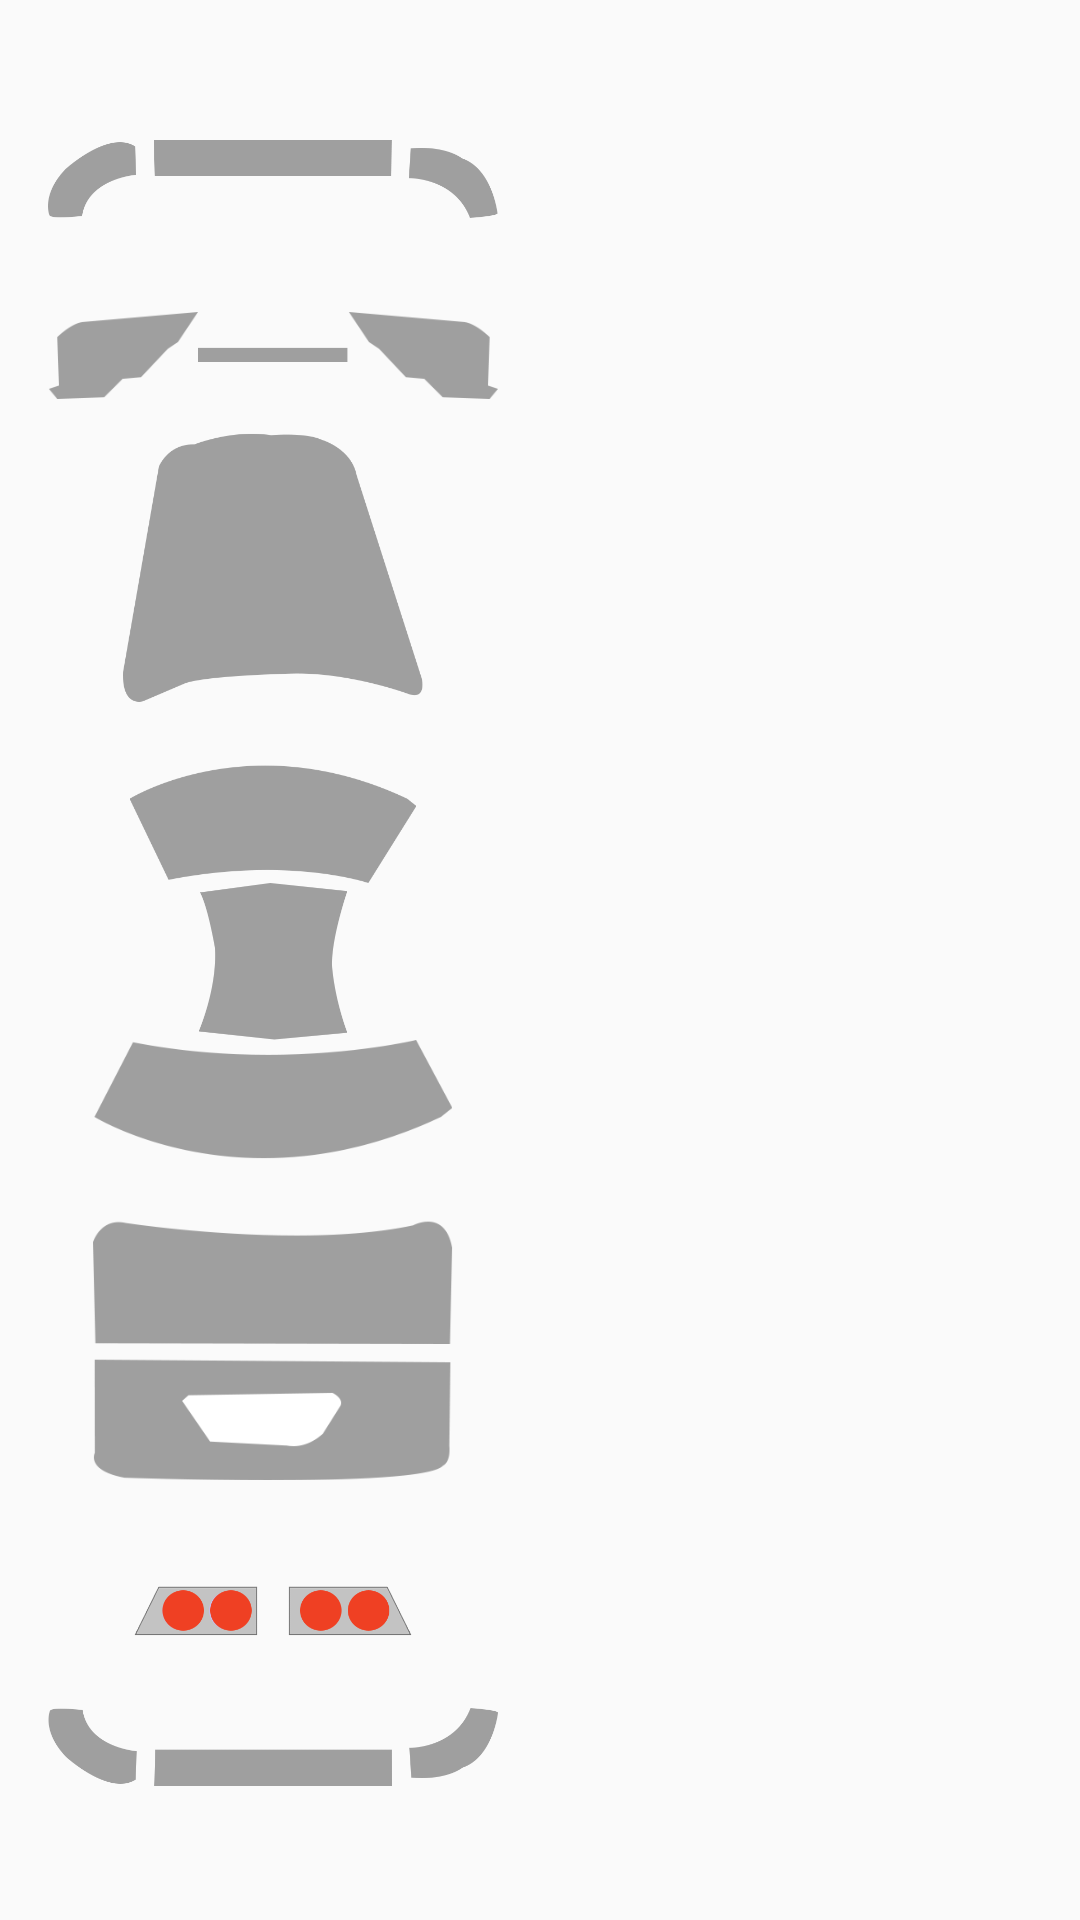

Screen size 1080×1920. Icon name, then its center in pixels as (x,y):
bonnet: (273,568)
dicky: (272,1350)
head left: (123,355)
head right: (423,355)
roof: (273,961)
tail left: (196,1610)
tail right: (350,1610)
windshield front: (273,824)
windshield rear: (273,1099)
